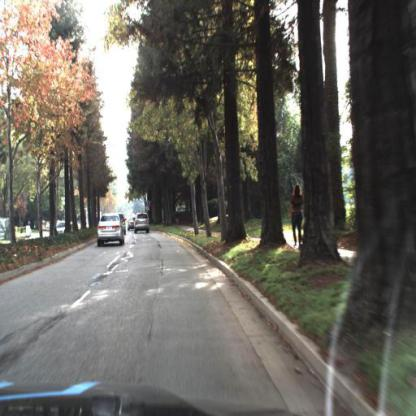car: (92, 213, 124, 248), (53, 217, 77, 238), (134, 211, 152, 238), (51, 215, 74, 236), (54, 221, 77, 242)
pedestrian: (290, 183, 308, 251)
